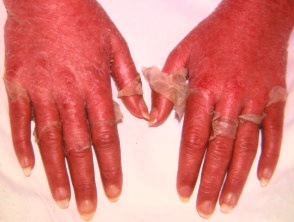SJS-TEN: (0, 0, 168, 222), (142, 0, 294, 222)
